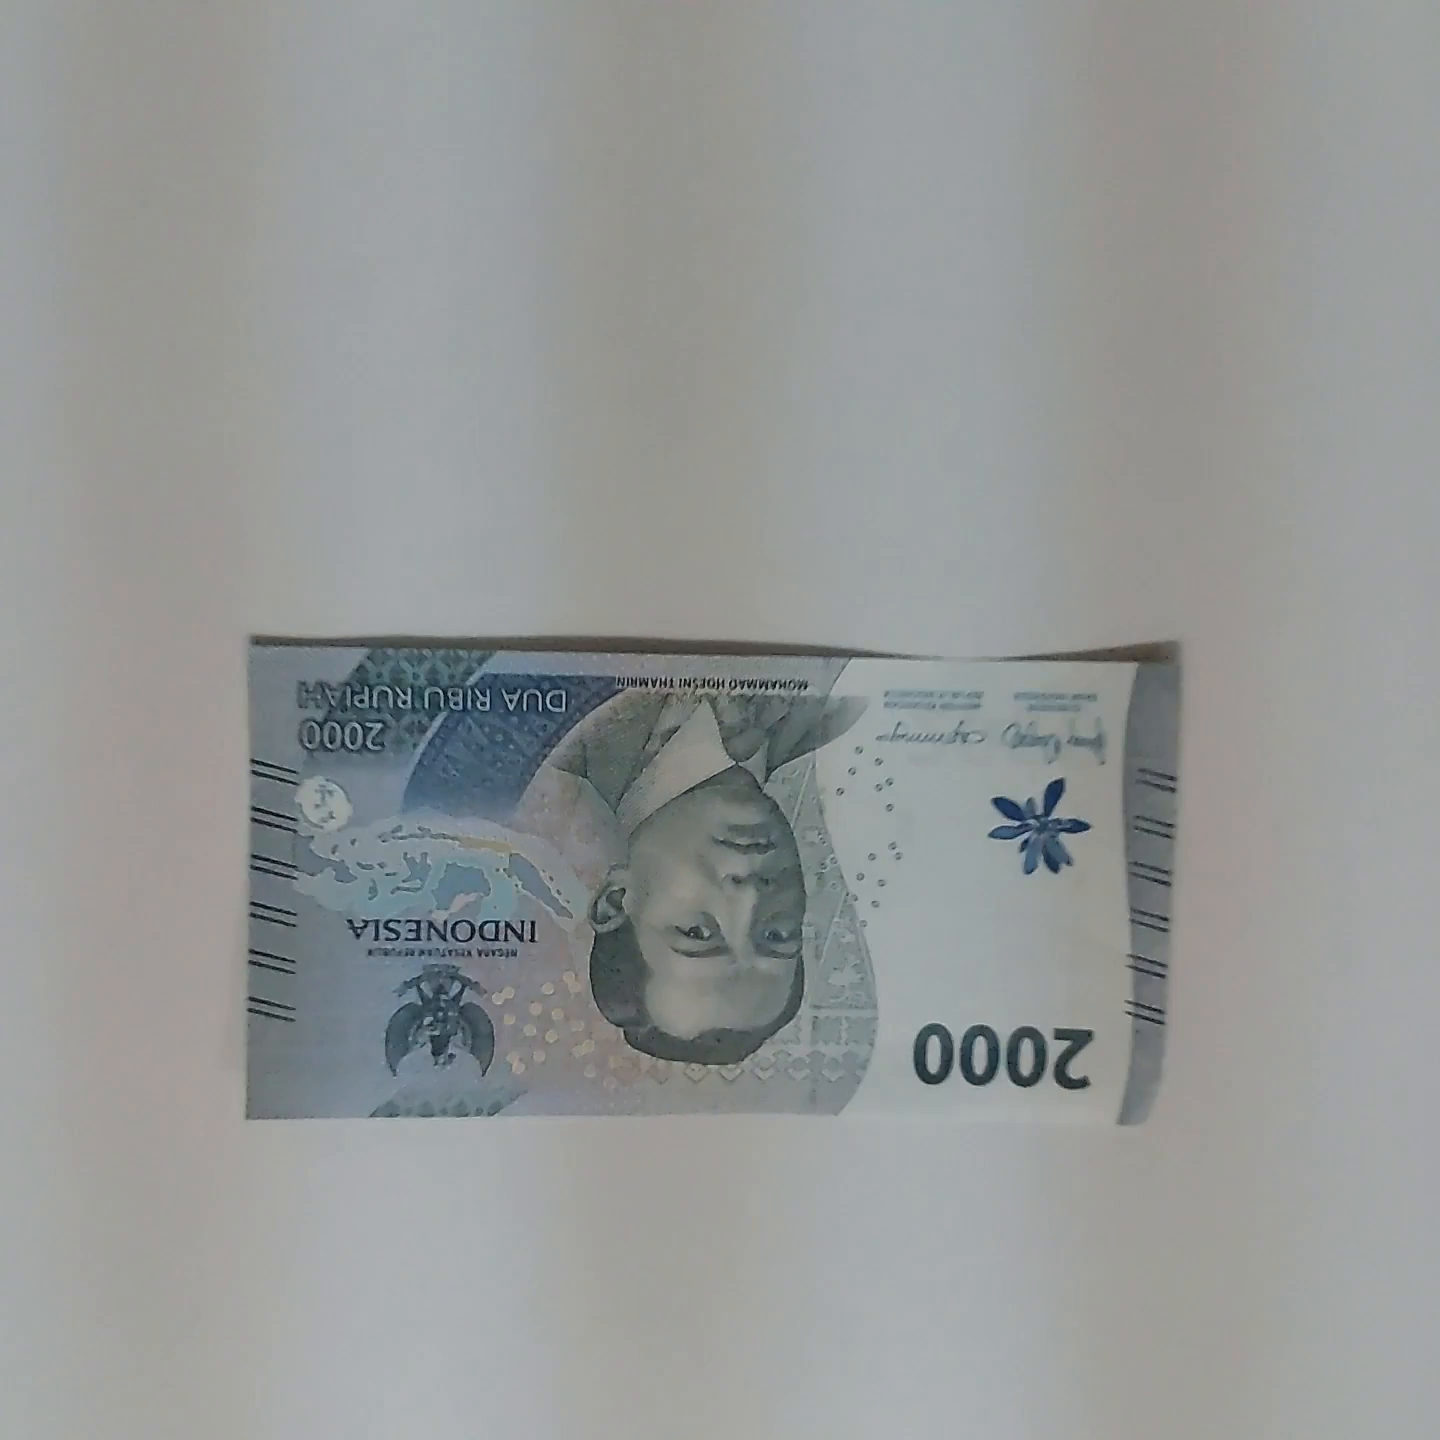2k: (231, 609, 1195, 1145)
